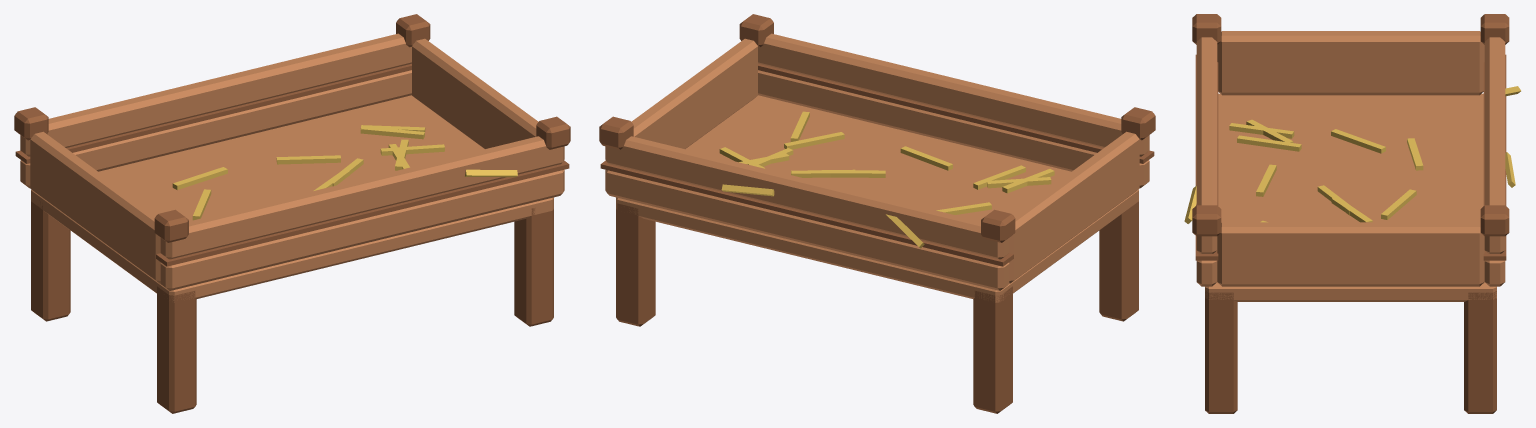
File: Yemlik_Inek.fbx
The picture shows the model from 3 angles, left to right: view 1: azimuth 30°, elevation 25°; view 2: azimuth 150°, elevation 25°; view 3: azimuth 270°, elevation 25°; orthographic projection. The views are drawn at different scales.
Visible parts, largest first — view 1: Yemlik_Inek; view 2: Yemlik_Inek; view 3: Yemlik_Inek.
Boxes of the visible parts, x1,y1,x2,y2 form: Yemlik_Inek: [14, 14, 570, 413]; Yemlik_Inek: [599, 14, 1155, 413]; Yemlik_Inek: [1184, 14, 1520, 413].
Bounding box in the file's own units: 117 × 55 × 81.9.
